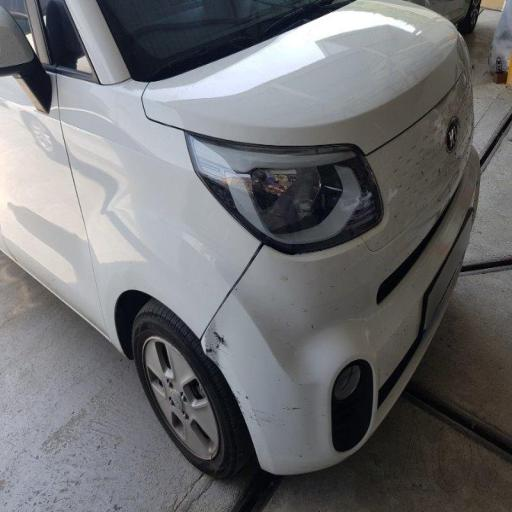scratch: (183, 211, 394, 458)
